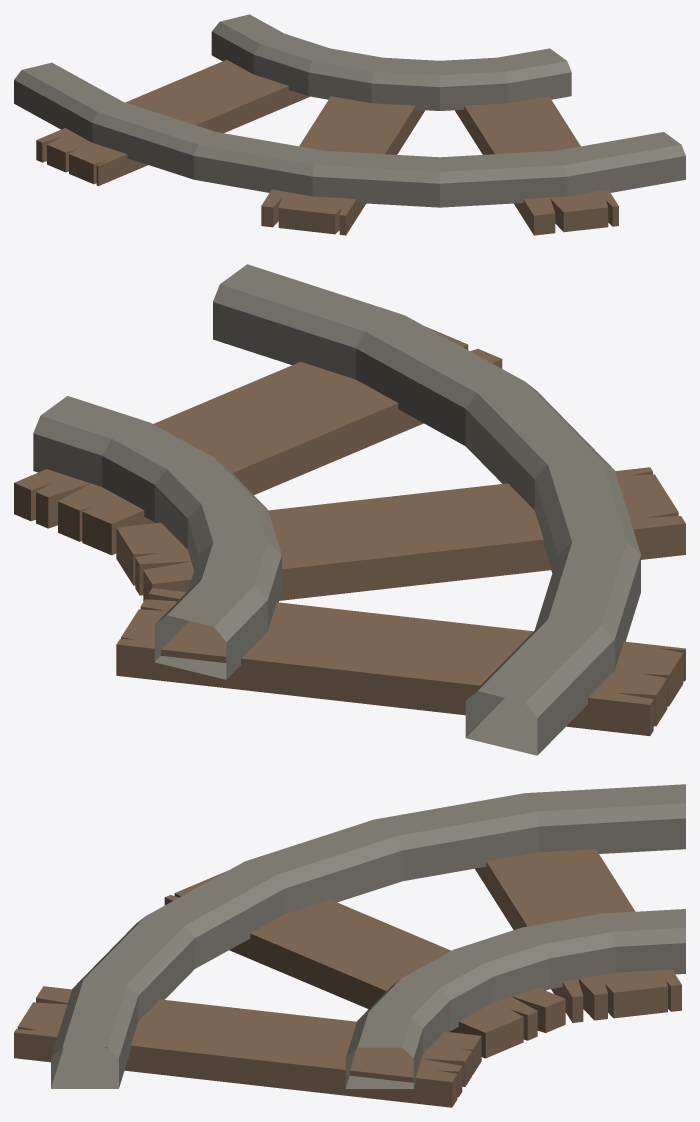
Rendered from Cave_Prop_Railway_Curve_Small.obj.
3 renders of one model, top to bottom at view 1: azimuth 30°, elevation 25°; view 2: azimuth 150°, elevation 25°; view 3: azimuth 270°, elevation 25°, orthographic. The views are drawn at different scales.
Visible parts, largest first — view 1: object4, object5, object1, object3, object2; view 2: object4, object1, object3, object5, object2; view 3: object4, object2, object5, object3, object1.
Part boxes in pixels (x1=…): object4: x1=14, y1=62, x2=685, y2=207; object5: x1=211, y1=14, x2=571, y2=110; object1: x1=36, y1=59, x2=309, y2=186; object3: x1=261, y1=96, x2=424, y2=235; object2: x1=455, y1=96, x2=618, y2=235; object4: x1=213, y1=264, x2=640, y2=755; object1: x1=116, y1=588, x2=685, y2=735; object3: x1=116, y1=467, x2=685, y2=601; object5: x1=33, y1=396, x2=281, y2=679; object2: x1=14, y1=326, x2=502, y2=555; object4: x1=51, y1=784, x2=685, y2=1088; object2: x1=14, y1=986, x2=481, y2=1107; object5: x1=345, y1=909, x2=685, y2=1088; object3: x1=164, y1=870, x2=565, y2=1058; object1: x1=475, y1=849, x2=681, y2=1022.
Bounding box in the file's own units: 1.48 × 0.15 × 1.48.
